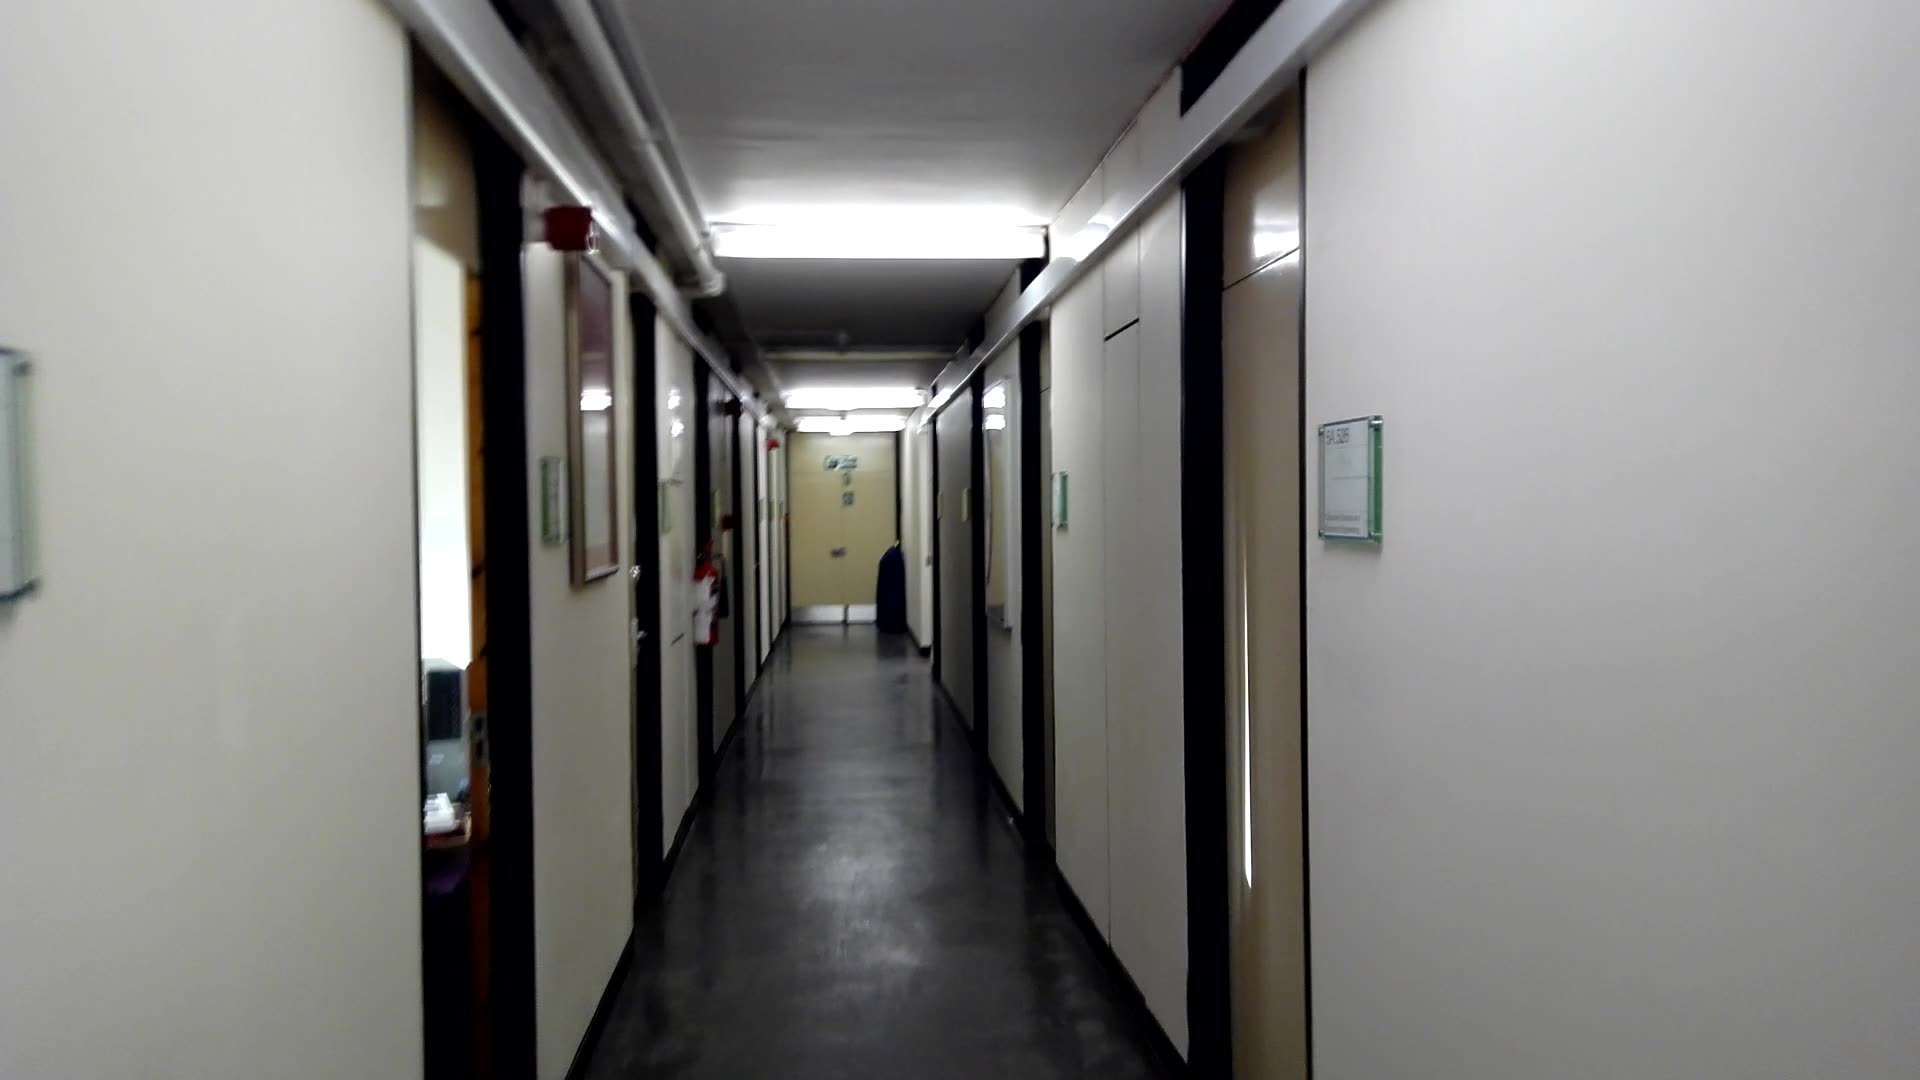Bin: (872, 534, 914, 647)
Door: (1162, 55, 1317, 1073), (396, 11, 542, 1080)
